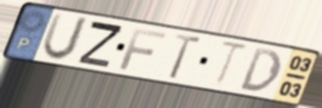D: (238, 46, 284, 94)
F: (117, 27, 170, 72)
T: (211, 39, 252, 90), (167, 32, 205, 82)
U: (39, 10, 92, 63)
Z: (75, 19, 125, 70)
